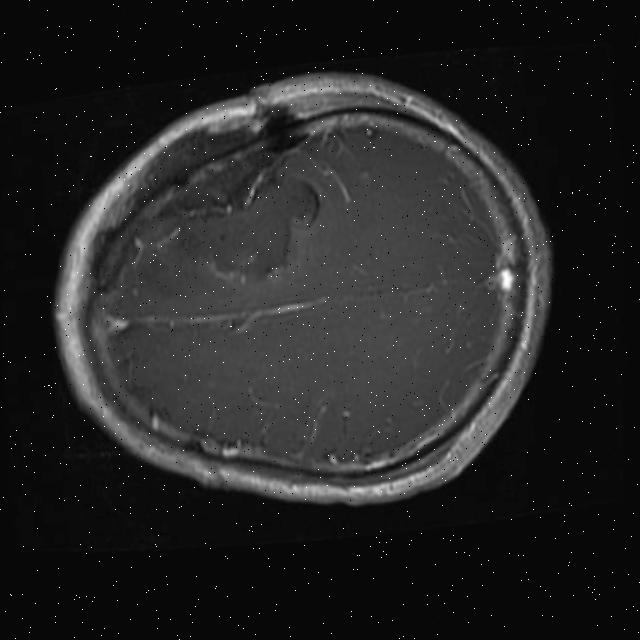Glioma: (155, 141, 325, 291)
